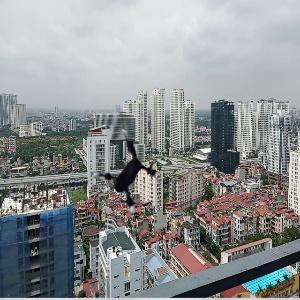drone: (71, 123, 172, 224)
